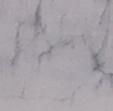retracao: (10, 1, 112, 102)
